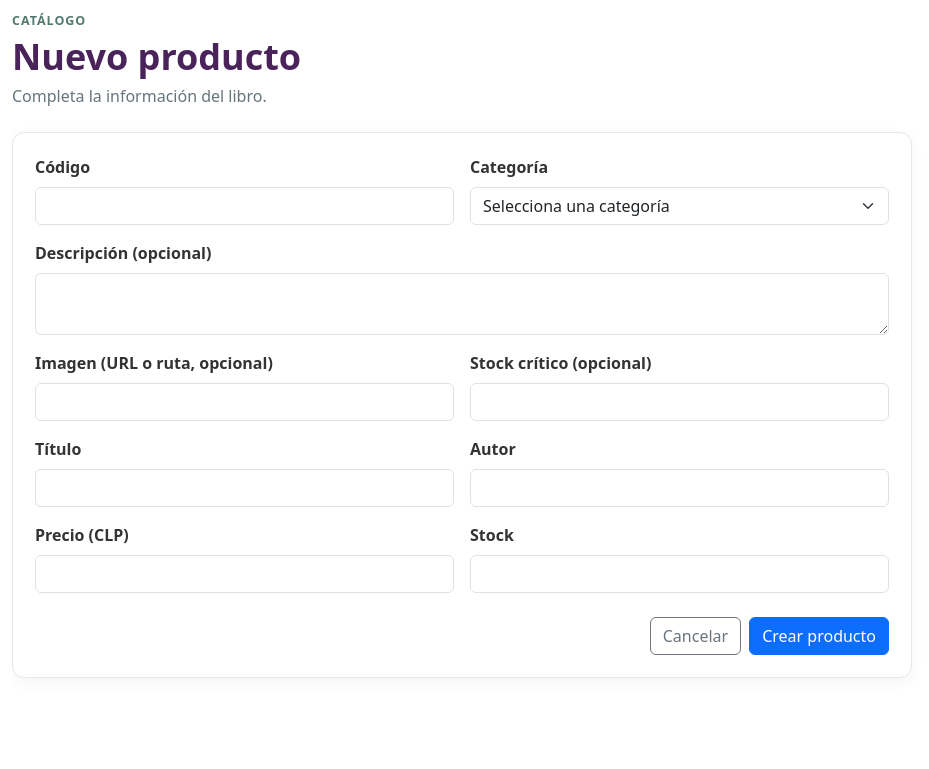
Test case: Formulario real de libros › rechaza stock 1 y precio -10 inválidos
The image size is (929, 769).
Type "LIB-NUEVO" into the field labelled "Código" at (244, 206), box [35,187,454,225]
Select "Narrativa" in the dropdown labelled "Categoría" at (680, 206), box [470,187,889,225]
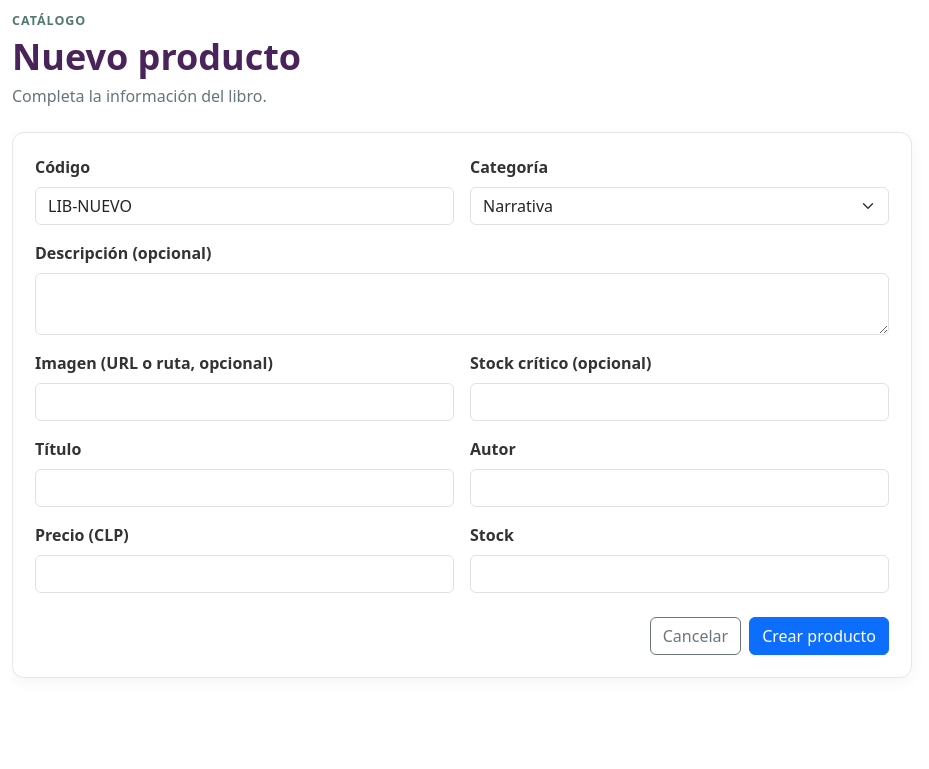
Type "Libro nuevo" into the field labelled "Título" at (244, 488), box [35,469,454,507]
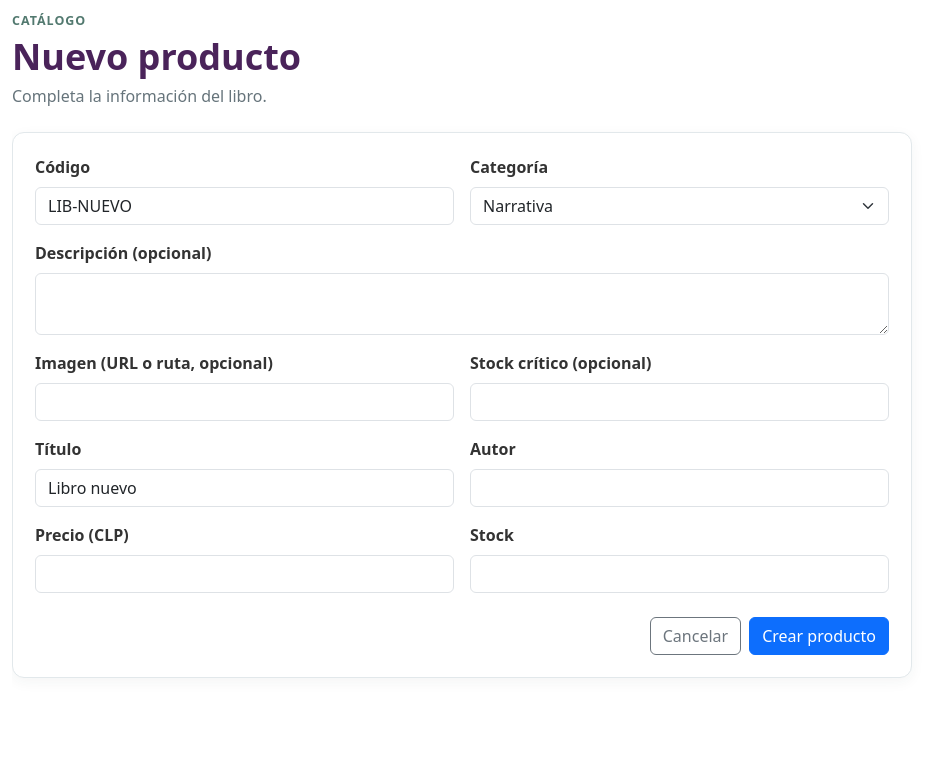
Type "Autora real" into the field labelled "Autor" at (680, 488), box [470,469,889,507]
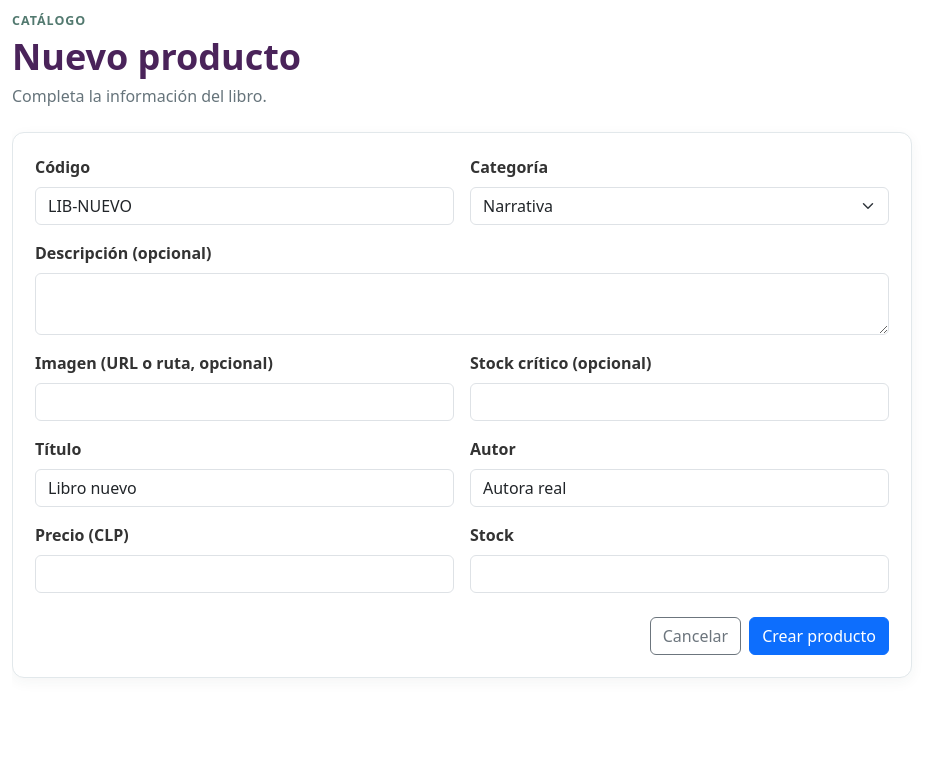
Type "-10" into the number field labelled "Precio (CLP)" at (244, 574), box [35,555,454,593]
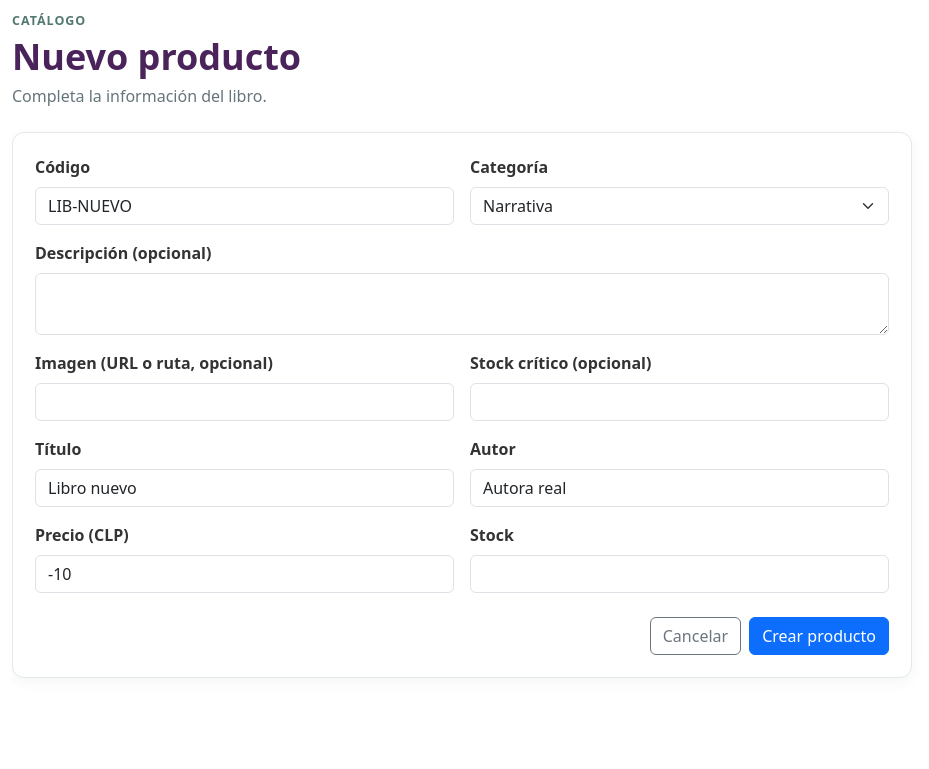
Type "1" into the number field labelled "Stock" at (680, 574), box [470,555,889,593]
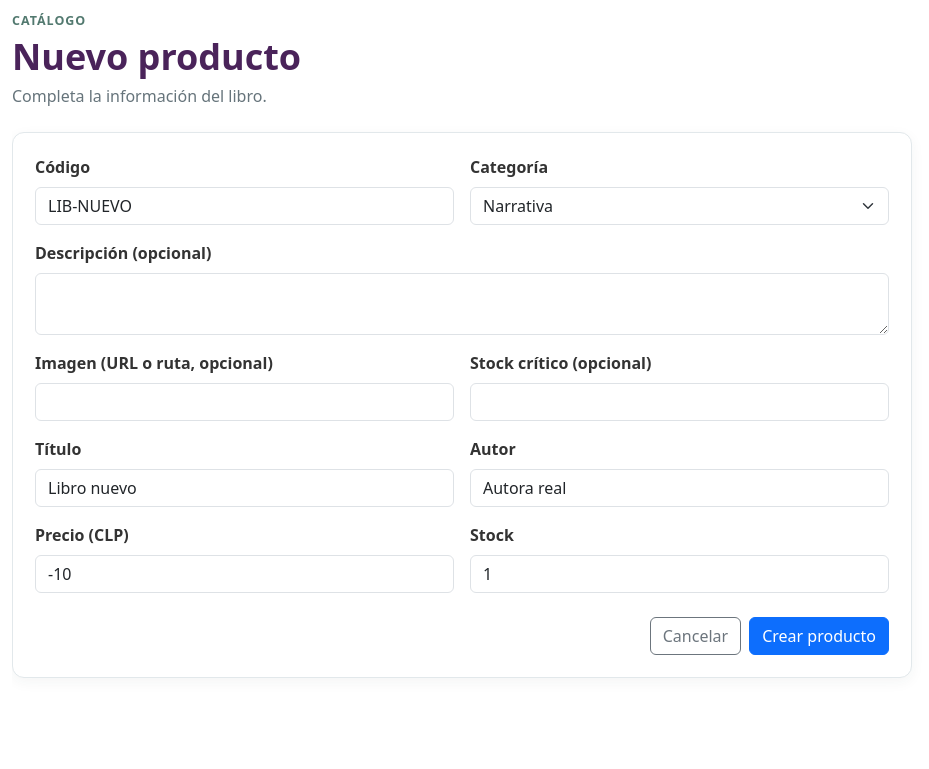
Click the button "Crear producto" at (819, 636), box [749,617,889,655]
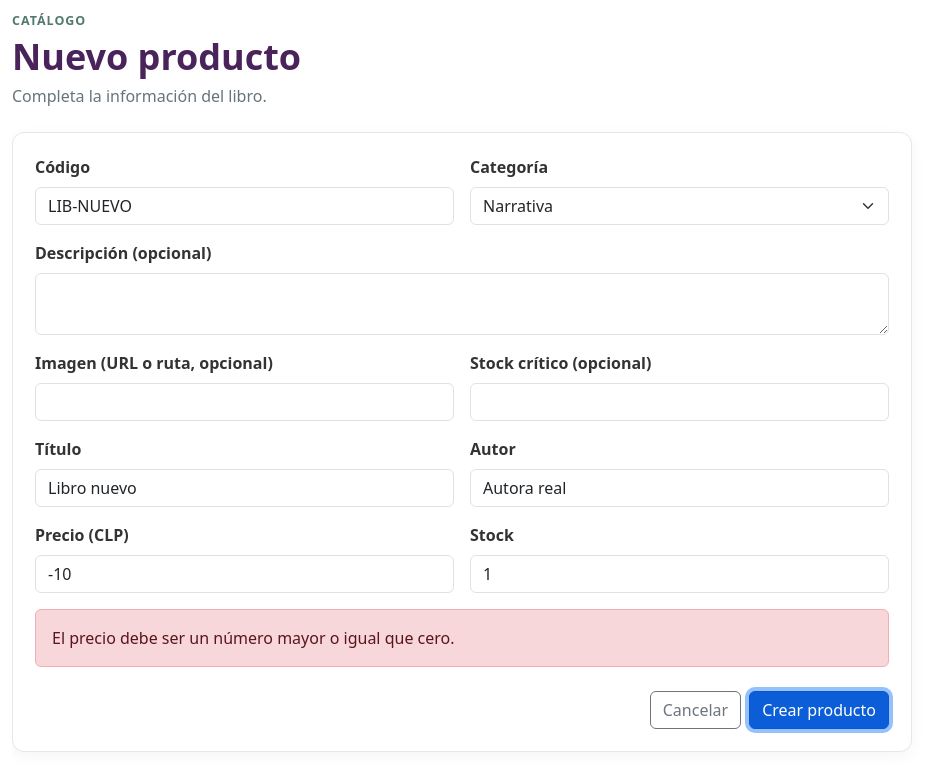
Expected: the message "El precio debe ser un número mayor o igual que cero." is shown, [35,609,889,667]
